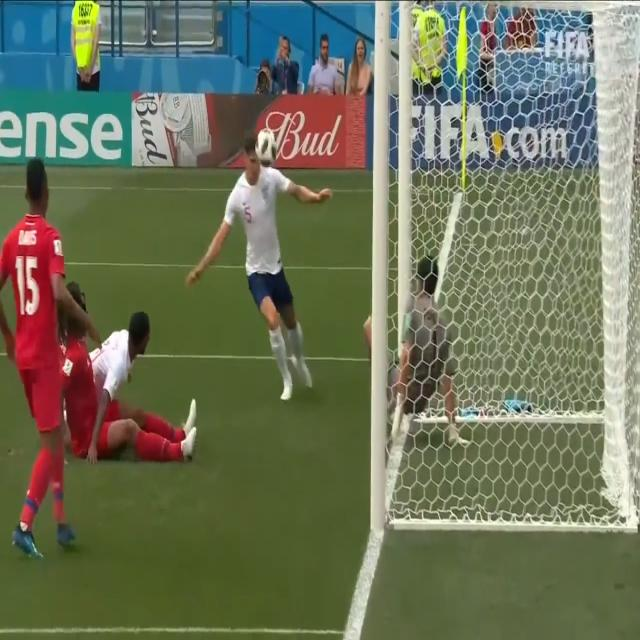player: (184, 132, 332, 405), (0, 156, 94, 557), (65, 272, 200, 466), (96, 300, 150, 402)
